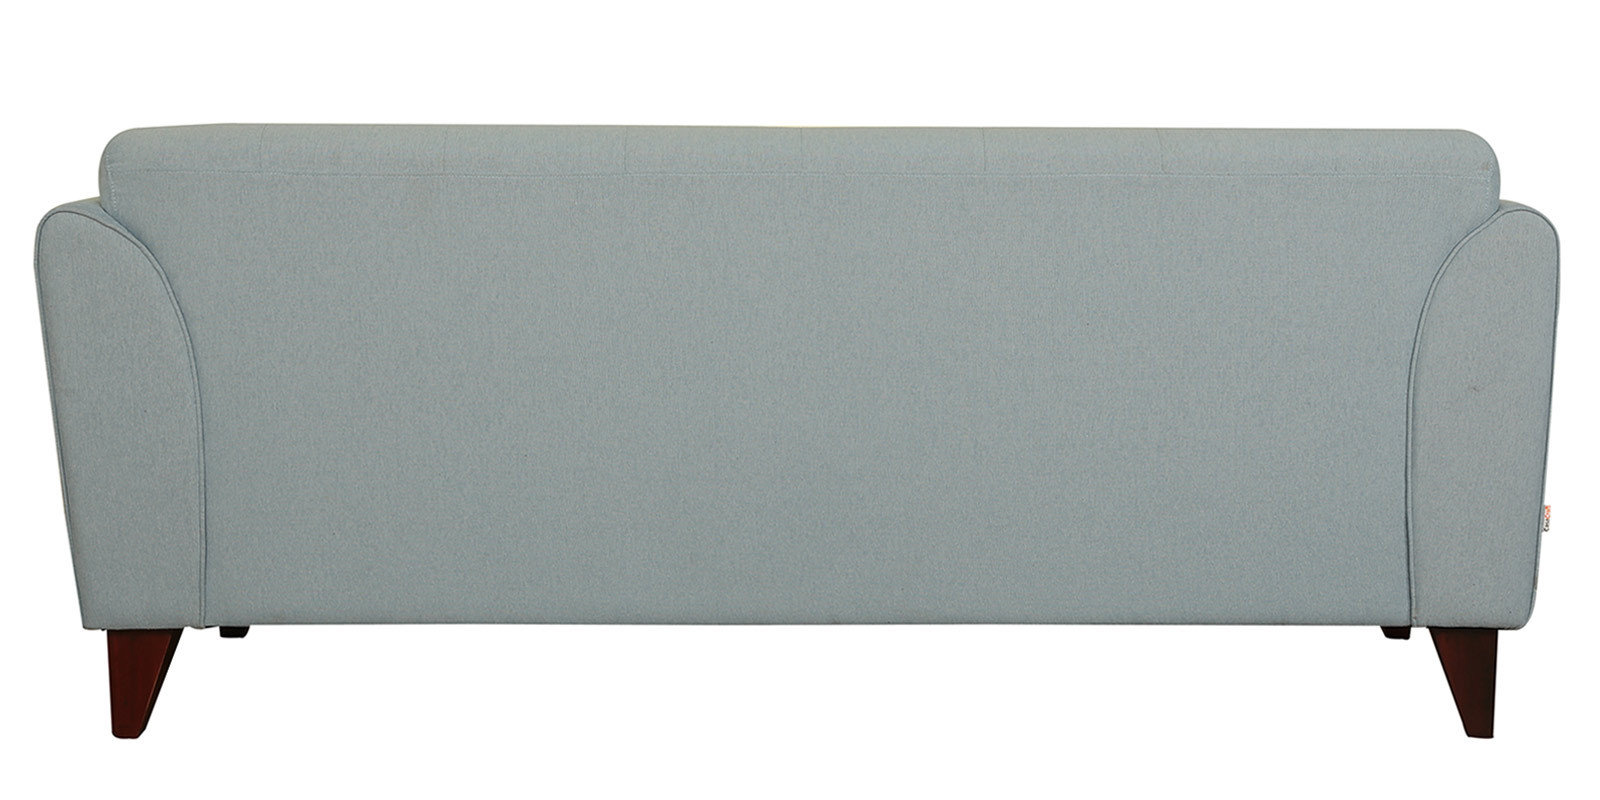Belem Three Seater Sofa in Ice Blue Color by CasaCraft: (21, 113, 1569, 677)
